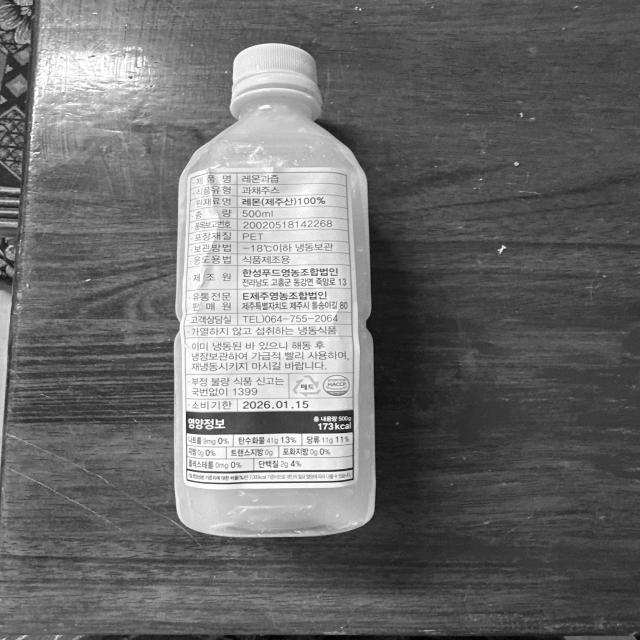Nutrition Label: (178, 404, 362, 491)
